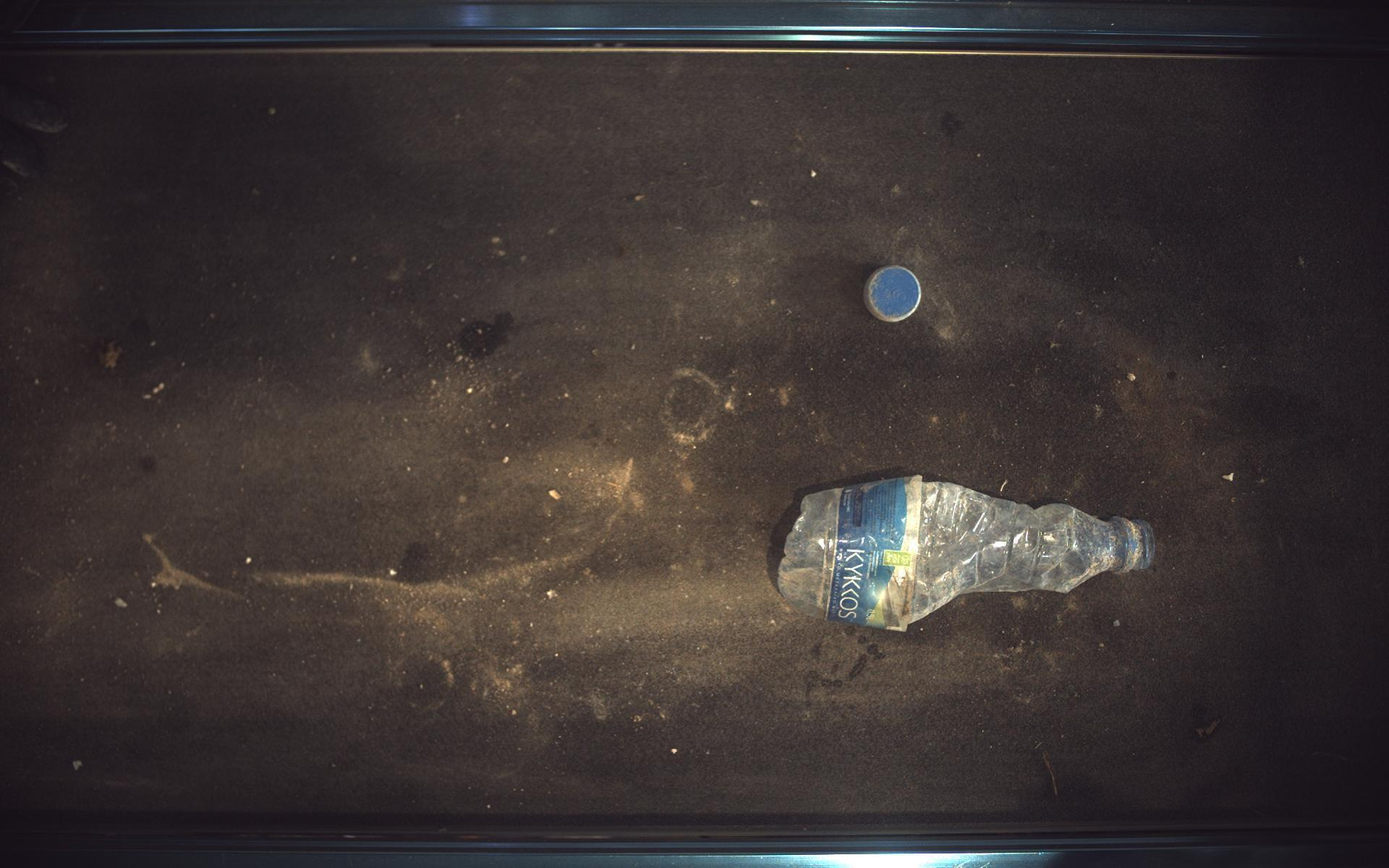general_w: (779, 476, 1158, 631), (865, 265, 923, 322)
